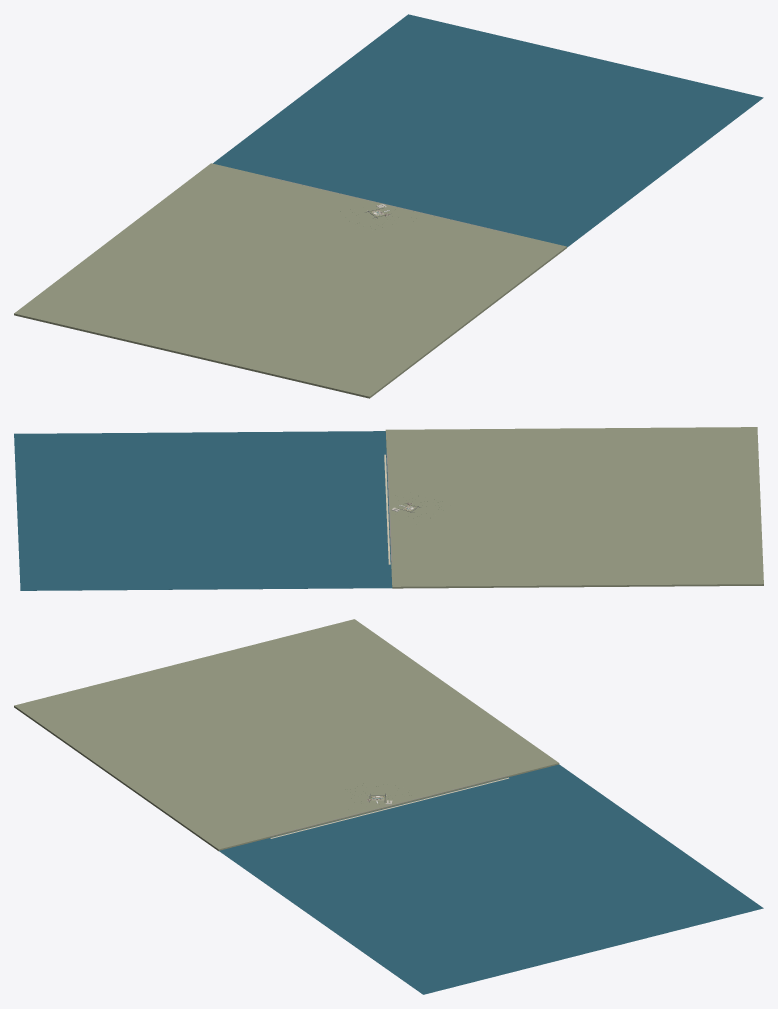
The model's file is soul-hotel.glb.
The picture shows the model from 3 angles, top to bottom: view 1: azimuth 30°, elevation 25°; view 2: azimuth 150°, elevation 25°; view 3: azimuth 270°, elevation 25°; orthographic projection. The views are drawn at different scales.
Parts seen in each view (by area): view 1: context_land, sea; view 2: context_land, sea; view 3: context_land, sea.
Boxes of the visible parts, left/top/right/bottom form: context_land: left=14, top=163, right=566, bottom=398; sea: left=213, top=14, right=763, bottom=247; context_land: left=385, top=427, right=763, bottom=588; sea: left=14, top=431, right=392, bottom=590; context_land: left=14, top=619, right=559, bottom=851; sea: left=219, top=764, right=763, bottom=994.
Size of the model in its own units: 13376 by 43.48 by 11323.
